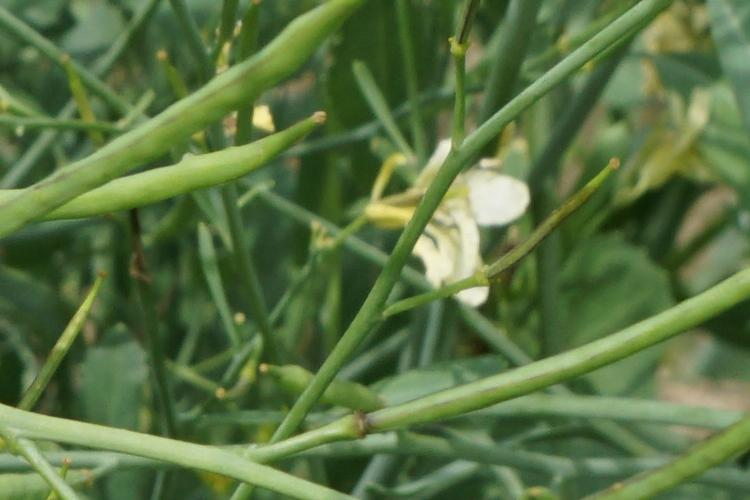pod: (450, 157, 659, 287), (48, 109, 342, 198)
white: (355, 139, 514, 284)
